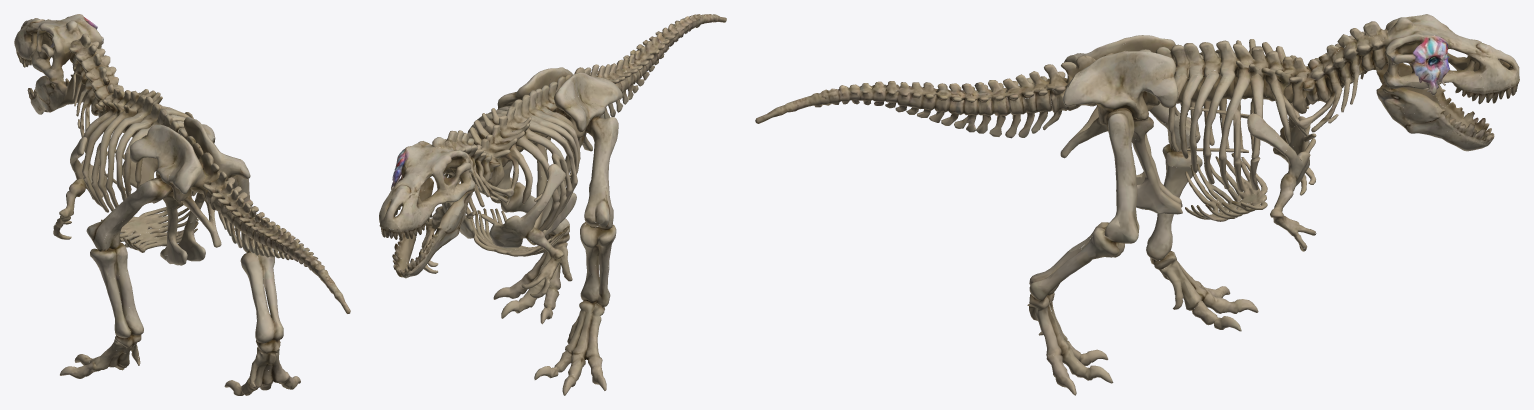
The model's file is trex.glb.
The picture shows the model from 3 angles, left to right: view 1: azimuth 30°, elevation 25°; view 2: azimuth 150°, elevation 25°; view 3: azimuth 270°, elevation 25°; orthographic projection. The views are drawn at different scales.
Visible parts, largest first — view 1: tripo_node_aa77d0de-e92b-4277-922b-a184e8c8a087; view 2: tripo_node_aa77d0de-e92b-4277-922b-a184e8c8a087; view 3: tripo_node_aa77d0de-e92b-4277-922b-a184e8c8a087.
Boxes of the visible parts, x1=… form: tripo_node_aa77d0de-e92b-4277-922b-a184e8c8a087: x1=14, y1=14, x2=350, y2=395; tripo_node_aa77d0de-e92b-4277-922b-a184e8c8a087: x1=379, y1=14, x2=726, y2=395; tripo_node_aa77d0de-e92b-4277-922b-a184e8c8a087: x1=755, y1=14, x2=1519, y2=395.
Bounding box in the file's own units: 0.3089 × 0.4762 × 1.
1 material, 1 textured.
